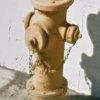Hydrant: (13, 2, 85, 98)
